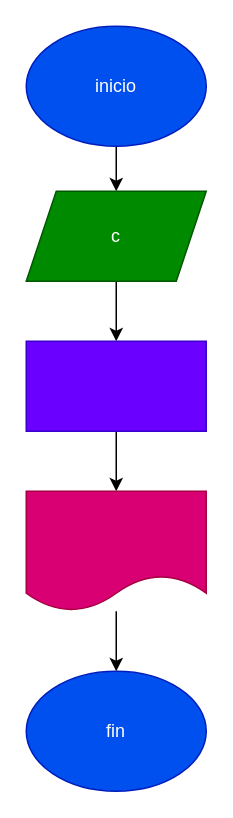
Some shapes in this 233 by 818 pixel diagram are drawn without their labels. Each missing label, with the centre of its shape:
"f,k" belongs at (115,550).
"k= c+ 273.15 f=1.8*c +32" belongs at (115,385).
